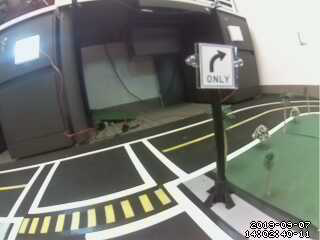Right_only_sign: (193, 41, 243, 88)
